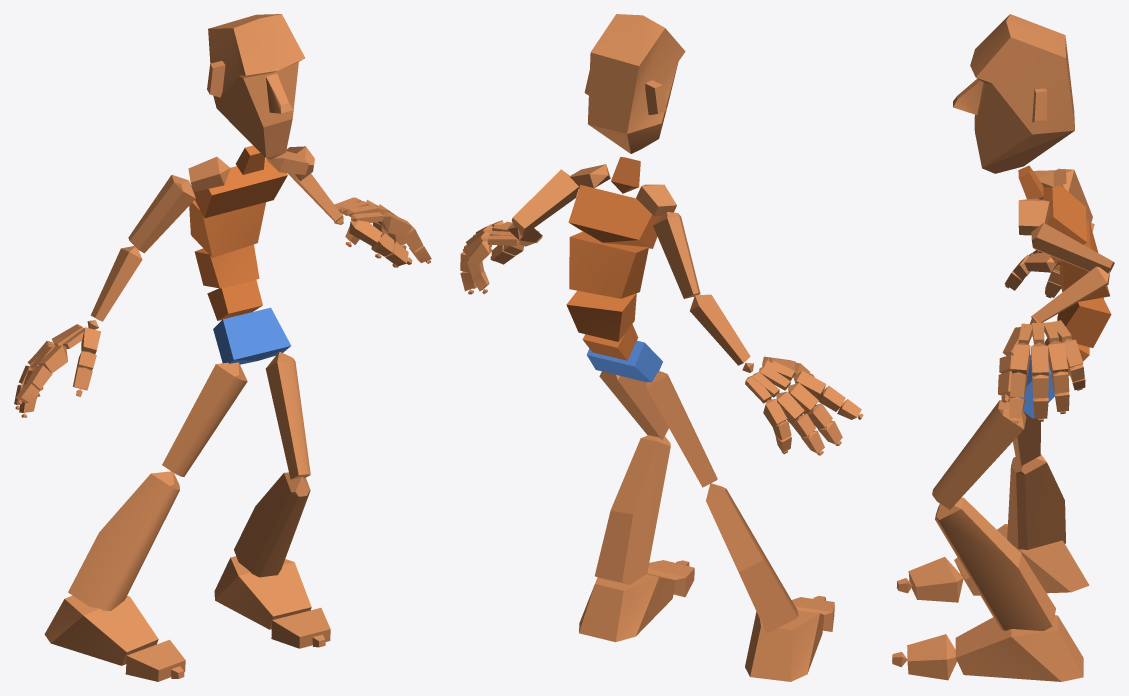
The model's file is prueba87.obj.
The picture shows the model from 3 angles, left to right: view 1: azimuth 30°, elevation 25°; view 2: azimuth 150°, elevation 25°; view 3: azimuth 270°, elevation 25°; orthographic projection. The views are drawn at different scales.
Parts seen in each view (by area): view 1: BOPED_Head, BOPED_R_leg, BOPED_R_foot, BOPED_L_leg, BOPED_R_foot01, BOPED_R_legup, BOPED_L_legup, Bone01, Bone04, Bone05, BOPED_R_arm_upper, Bone03 (+7 smaller); view 2: BOPED_Head, BOPED_L_leg, BOPED_R_leg, BOPED_R_foot01, Bone04, BOPED_R_foot, Bone05, BOPED_R_legup, Bone03, BOPED_R_arm_upper, BOPED_L_legup, BOPED_L_arm_upper (+8 smaller); view 3: BOPED_Head, BOPED_L_leg, BOPED_R_foot01, BOPED_R_leg, BOPED_L_legup, BOPED_R_foot, BOPED_L_arm_upper, BOPED_R_foot_toe01, BOPED_R_foot_toe04, Bone05, Bone03, BOPED_L_arm_fore (+15 smaller).
Part boxes in pixels (x1=…): BOPED_Head: x1=207, y1=14, x2=304, y2=159; BOPED_R_leg: x1=68, y1=471, x2=179, y2=610; BOPED_R_foot: x1=44, y1=595, x2=158, y2=665; BOPED_L_leg: x1=234, y1=472, x2=310, y2=577; BOPED_R_foot01: x1=214, y1=556, x2=311, y2=629; BOPED_R_legup: x1=162, y1=362, x2=247, y2=476; BOPED_L_legup: x1=265, y1=352, x2=310, y2=479; Bone01: x1=213, y1=307, x2=291, y2=364; Bone04: x1=189, y1=200, x2=266, y2=257; Bone05: x1=192, y1=158, x2=287, y2=218; BOPED_R_arm_upper: x1=128, y1=175, x2=195, y2=253; Bone03: x1=194, y1=244, x2=259, y2=288; BOPED_Head: x1=584, y1=14, x2=685, y2=153; BOPED_L_leg: x1=594, y1=435, x2=670, y2=584; BOPED_R_leg: x1=706, y1=483, x2=798, y2=633; BOPED_R_foot01: x1=579, y1=573, x2=676, y2=642; Bone04: x1=569, y1=231, x2=648, y2=298; BOPED_R_foot: x1=745, y1=610, x2=824, y2=681; Bone05: x1=568, y1=184, x2=662, y2=248; BOPED_R_legup: x1=646, y1=371, x2=717, y2=487; Bone03: x1=566, y1=290, x2=636, y2=341; BOPED_R_arm_upper: x1=653, y1=212, x2=700, y2=298; BOPED_L_legup: x1=599, y1=371, x2=668, y2=439; BOPED_L_arm_upper: x1=511, y1=169, x2=578, y2=236; BOPED_Head: x1=953, y1=14, x2=1074, y2=173; BOPED_L_leg: x1=935, y1=497, x2=1055, y2=630; BOPED_R_foot01: x1=955, y1=615, x2=1083, y2=681; BOPED_R_leg: x1=1007, y1=454, x2=1065, y2=549; BOPED_L_legup: x1=932, y1=400, x2=1026, y2=509; BOPED_R_foot: x1=954, y1=524, x2=1089, y2=595; BOPED_L_arm_upper: x1=1031, y1=223, x2=1114, y2=273; BOPED_R_foot_toe01: x1=908, y1=557, x2=963, y2=602; BOPED_R_foot_toe04: x1=907, y1=634, x2=956, y2=680; Bone05: x1=1042, y1=185, x2=1086, y2=263; Bone03: x1=1057, y1=297, x2=1111, y2=347; BOPED_L_arm_fore: x1=1031, y1=266, x2=1110, y2=322.
Size of the model in its own units: 130 by 182 by 57.34.
